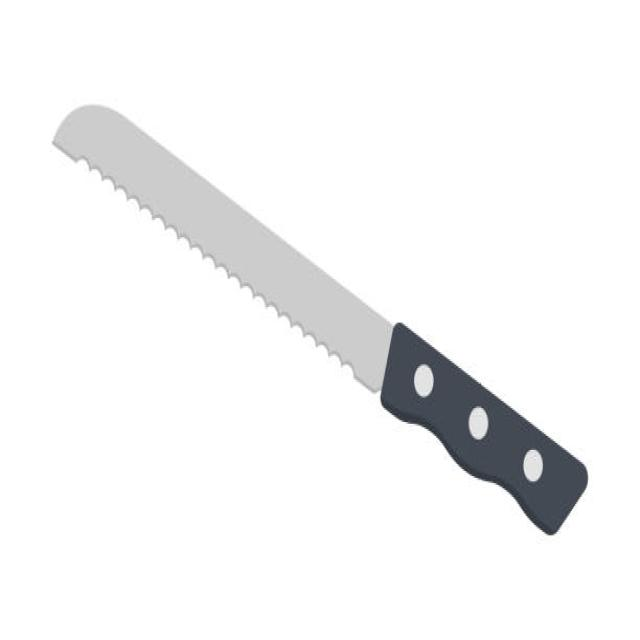Knife: (51, 105, 588, 534)
